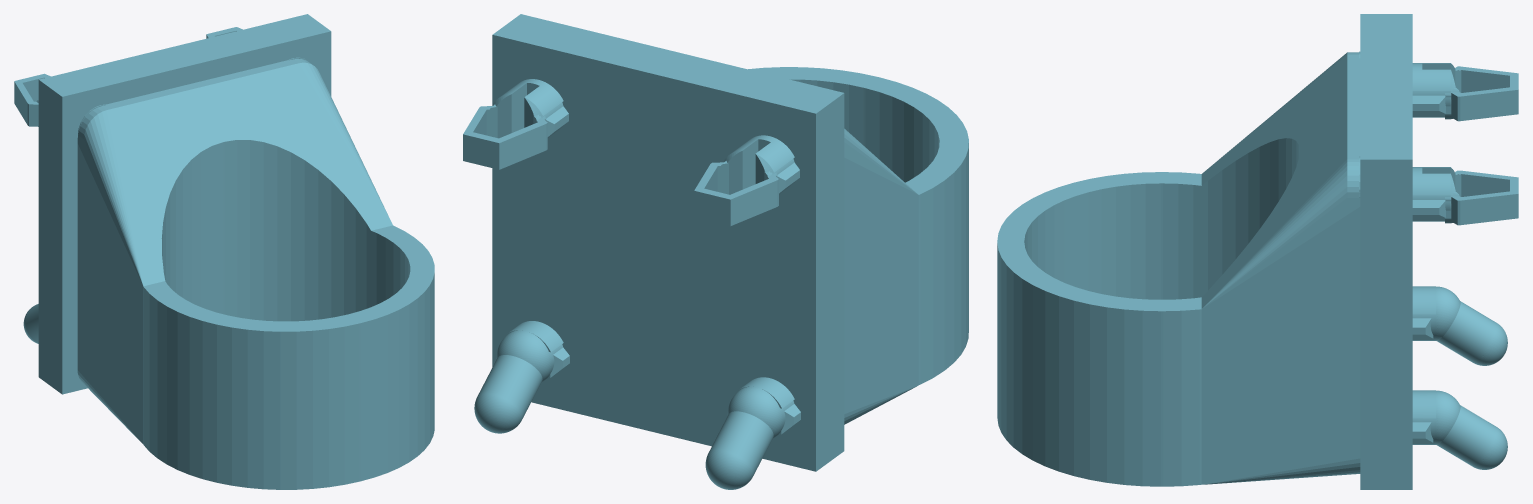
File: part-p08__current-mounts-flat-top-v2__fit-pf02c9-hoop5__print.glb
3 views of the same model, side by side, from view 1: azimuth 30°, elevation 25°; view 2: azimuth 150°, elevation 25°; view 3: azimuth 270°, elevation 25° (orthographic). The views are drawn at different scales.
Parts seen in each view (by area): view 1: print.stl; view 2: print.stl; view 3: print.stl.
Boxes of the visible parts, x1,y1,x2,y2 form: print.stl: (14, 14, 434, 489); print.stl: (463, 14, 968, 489); print.stl: (997, 14, 1518, 489).
Bounding box in the file's own units: 0.0356 × 0.0376 × 0.0538.
